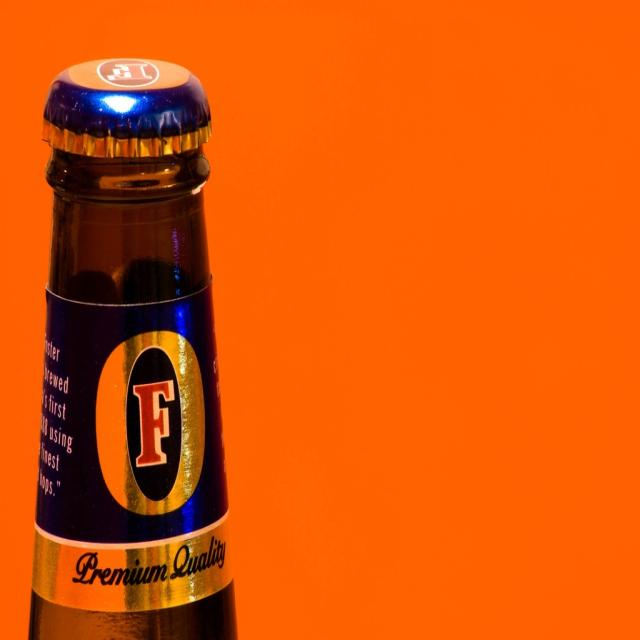fosters: (94, 327, 210, 521), (97, 56, 162, 92)
